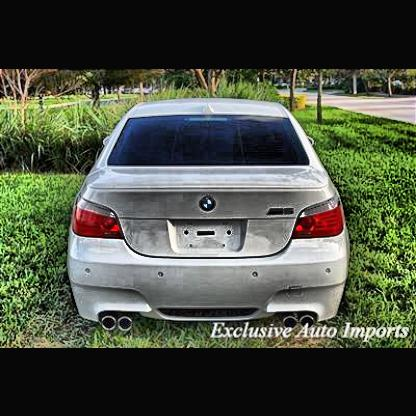BMW M5 Sedan 2010: (72, 101, 350, 332)
